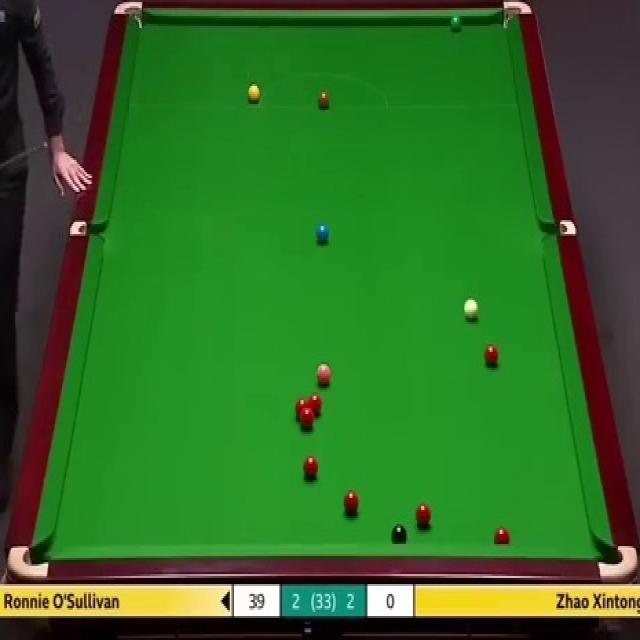pocket: (597, 542, 640, 584), (6, 543, 49, 583), (111, 0, 145, 32), (501, 0, 533, 32), (68, 221, 104, 237), (542, 220, 576, 235)
